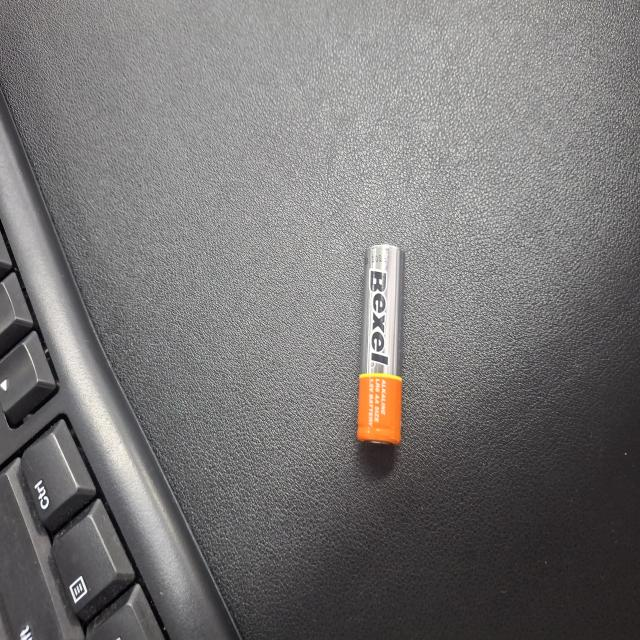AA: (184, 315, 333, 377)
